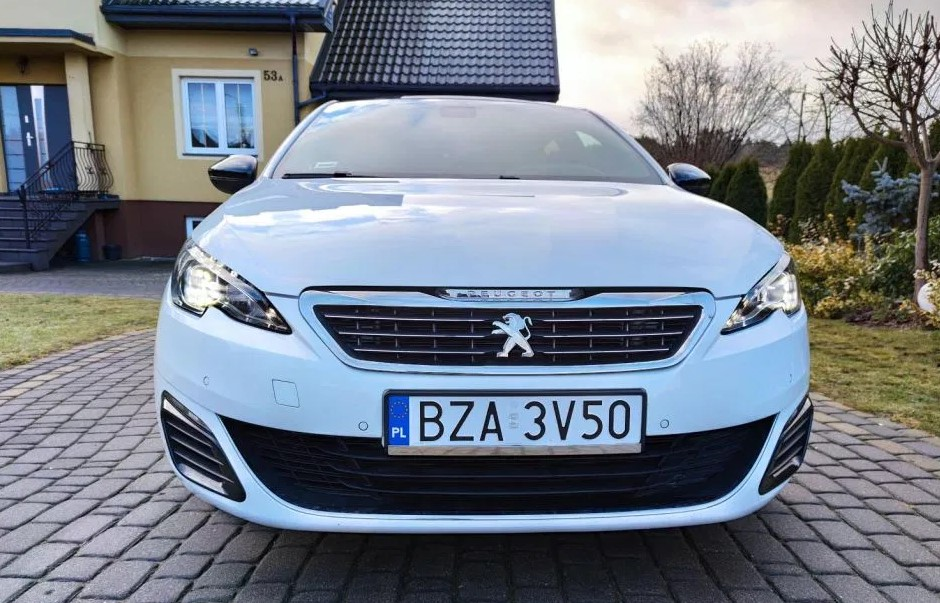number_plate: (374, 382, 652, 462)
